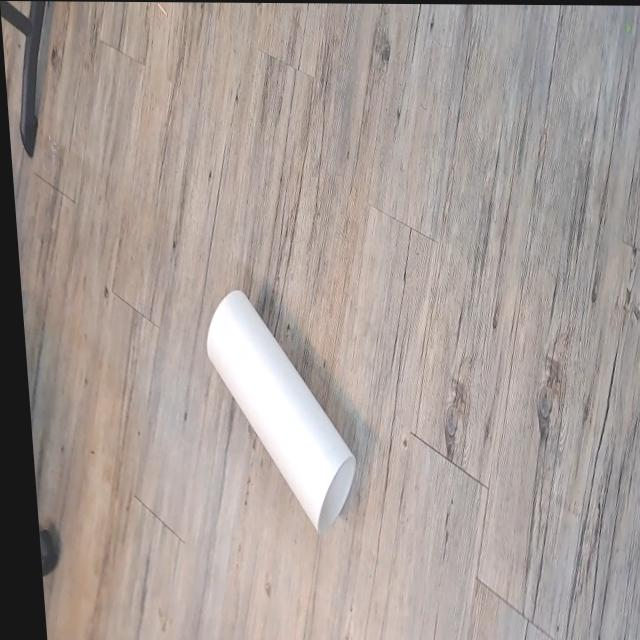CORAL: (190, 277, 373, 552)
